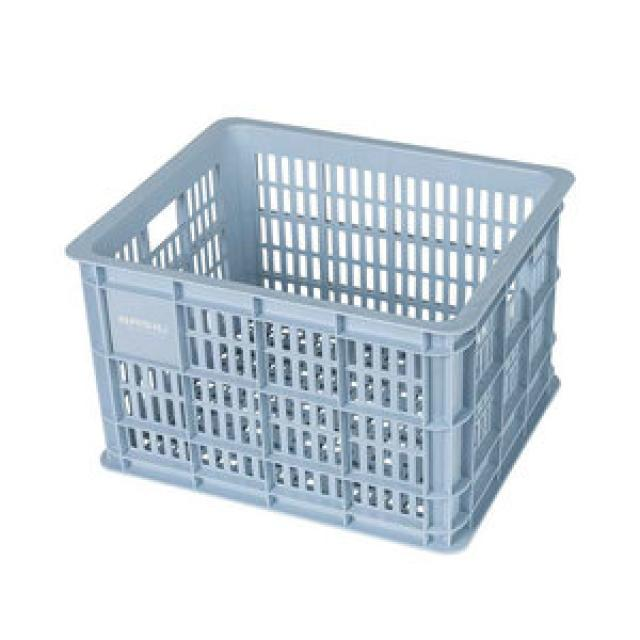basket: (30, 94, 593, 565)
